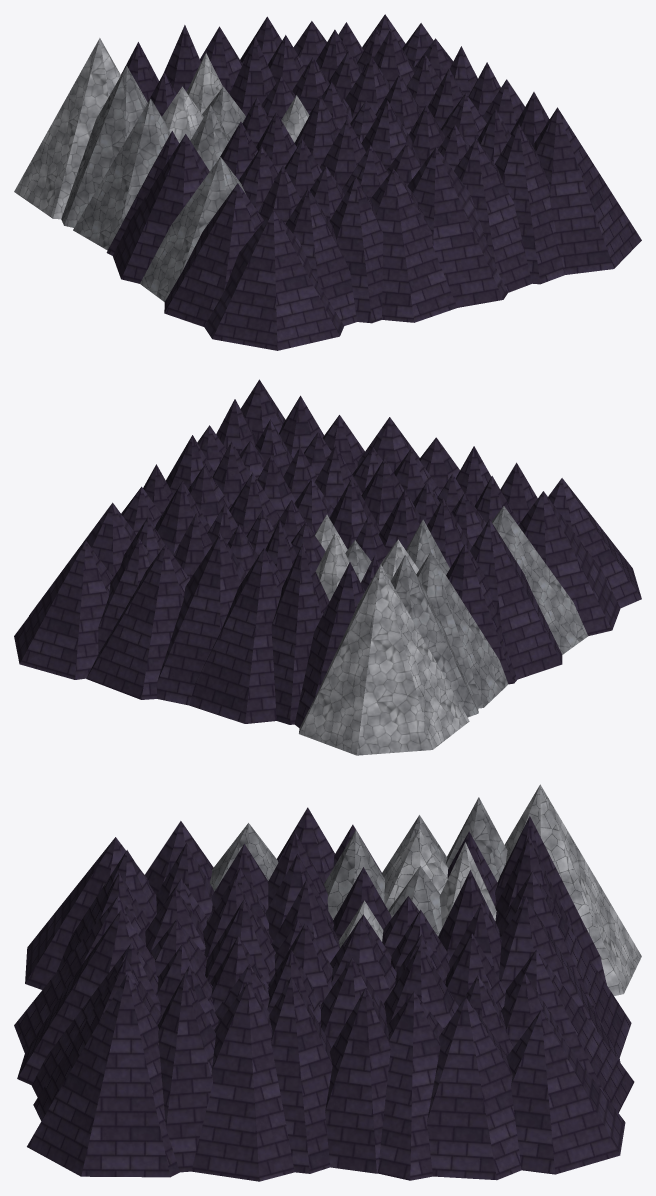
The model's file is chunk_6_24.glb.
3 views of the same model, one above another, from view 1: azimuth 30°, elevation 25°; view 2: azimuth 150°, elevation 25°; view 3: azimuth 270°, elevation 25° (orthographic). The views are drawn at different scales.
Parts seen in each view (by area): view 1: chunk_6_24; view 2: chunk_6_24; view 3: chunk_6_24.
Boxes of the visible parts, x1,y1,x2,y2 form: chunk_6_24: (14, 14, 641, 350); chunk_6_24: (14, 379, 641, 755); chunk_6_24: (14, 784, 641, 1181).
Size of the model in its own units: 21.25 by 6.92 by 21.53.
7 materials, 7 textured.
